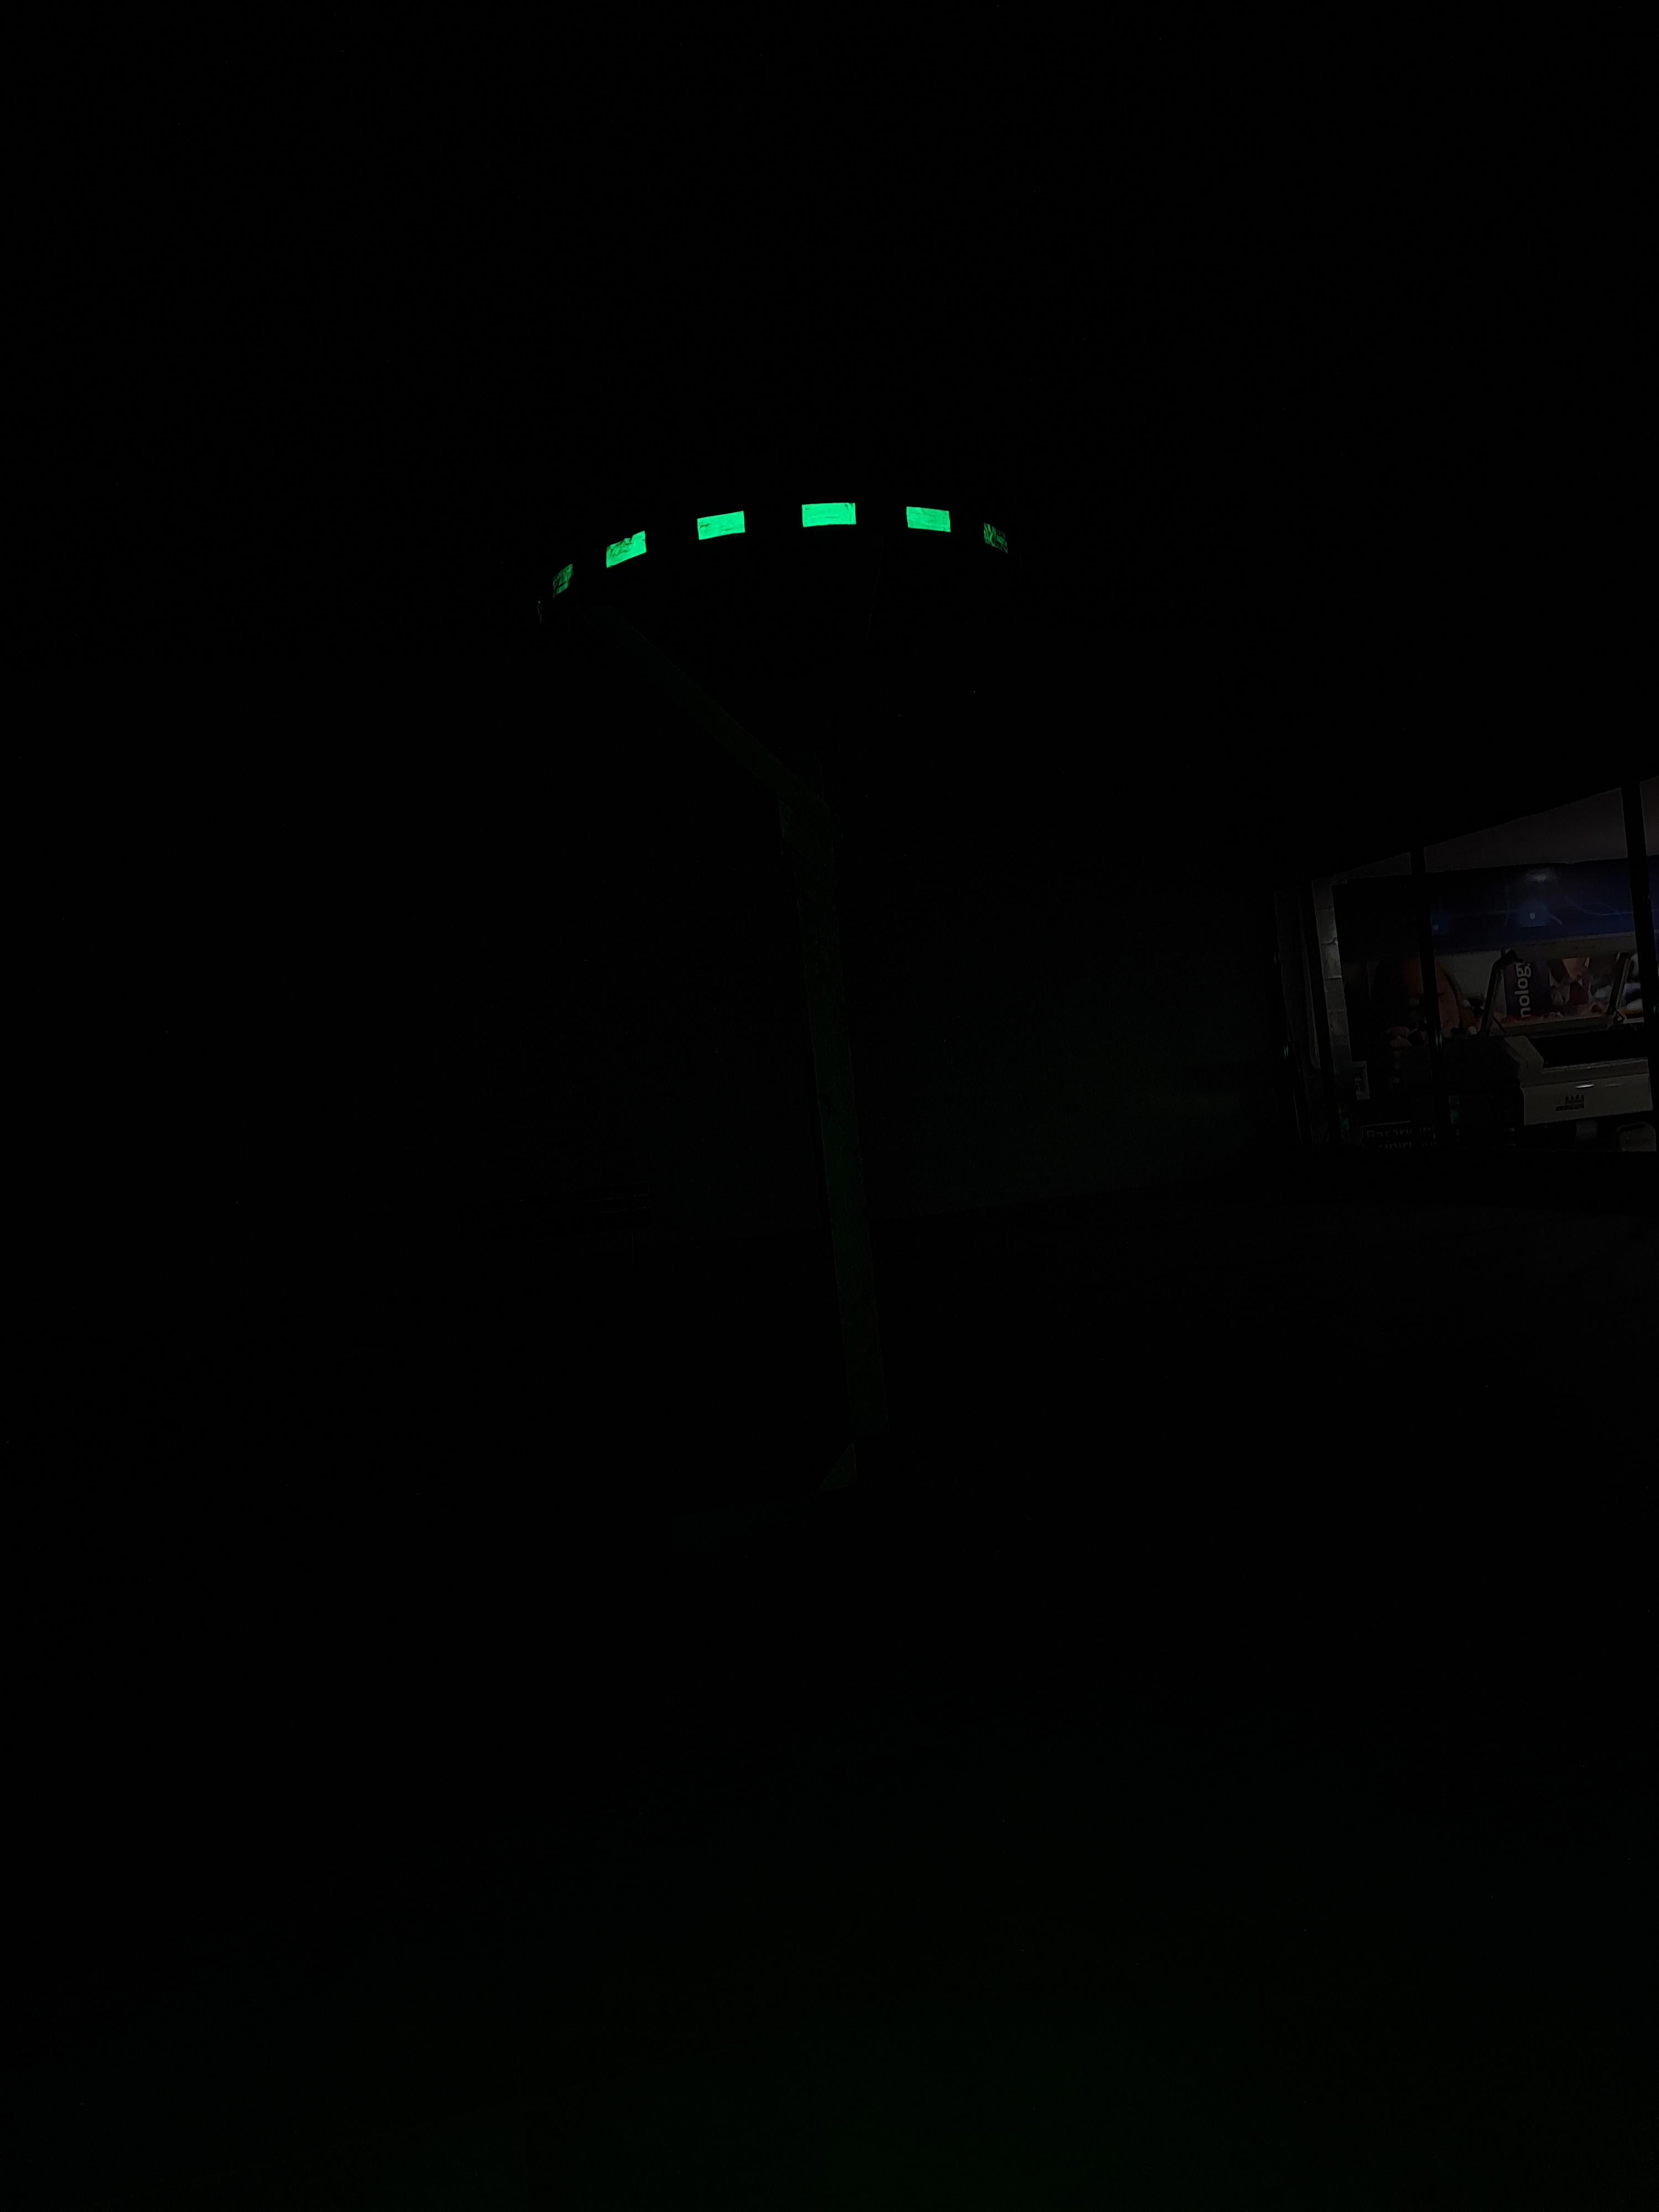hoop: (528, 460, 1039, 631)
